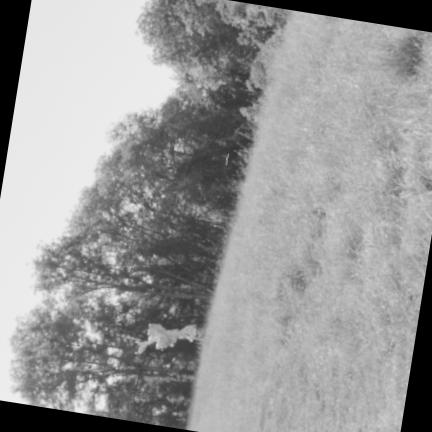Shahed: (225, 152, 230, 166)
